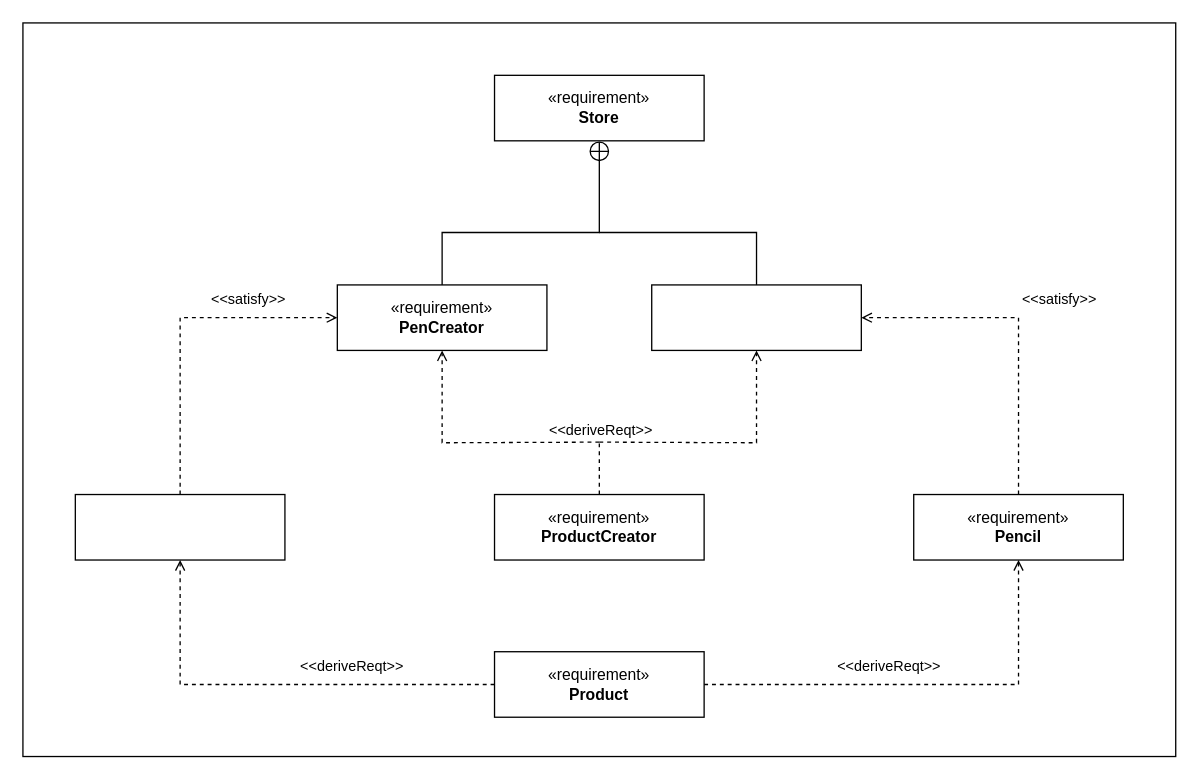
This 1199x779 diagram has some shape labels left out. The centre of each missing label's shape, as x and y in pixels:
"«requirement» Pen" goes at point 179,526.
"«requirement» PencilCreator" goes at point 755,317.
